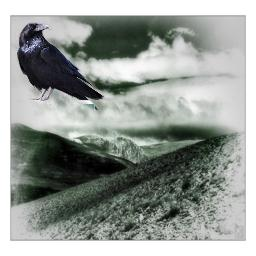Crow: (17, 22, 104, 111)
